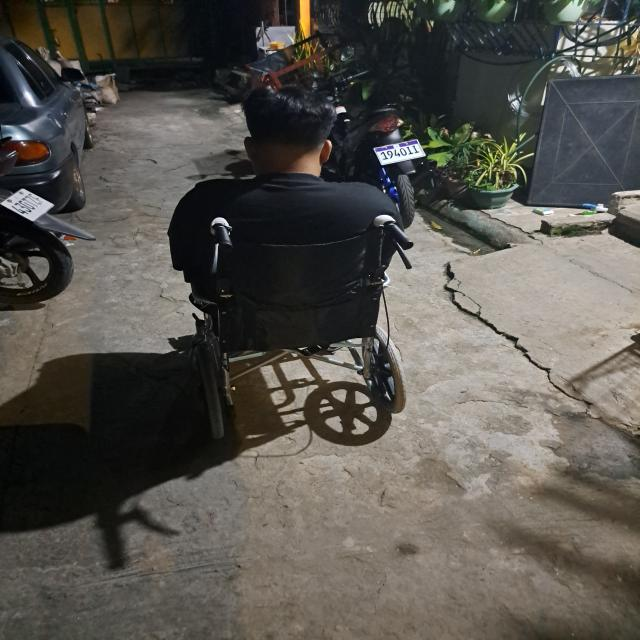wheelchairs: (162, 217, 426, 450)
